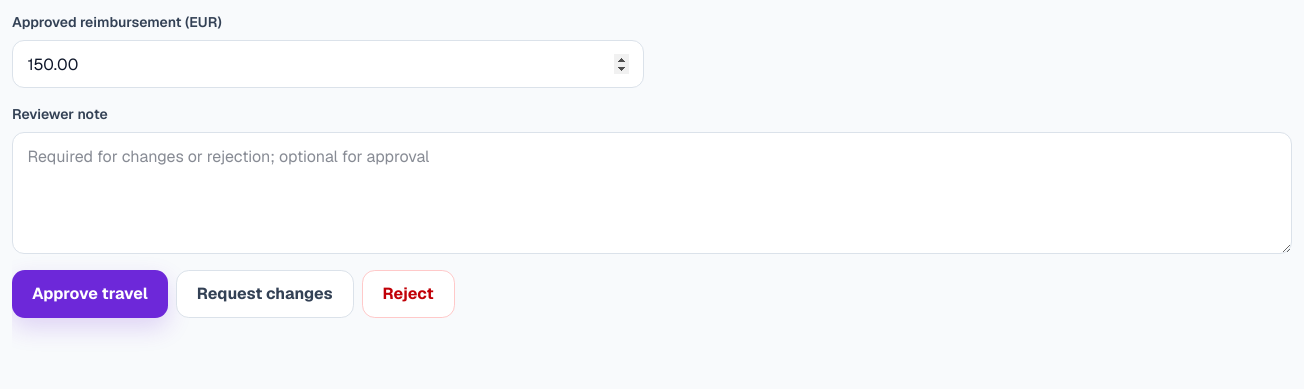
Test: TravelReviewForm › shows an error message when review fails
What coordinates should you click on to do the following:
click the button "Reject"
I would click on:
 (408, 294)
Its box is [362,270,454,318].
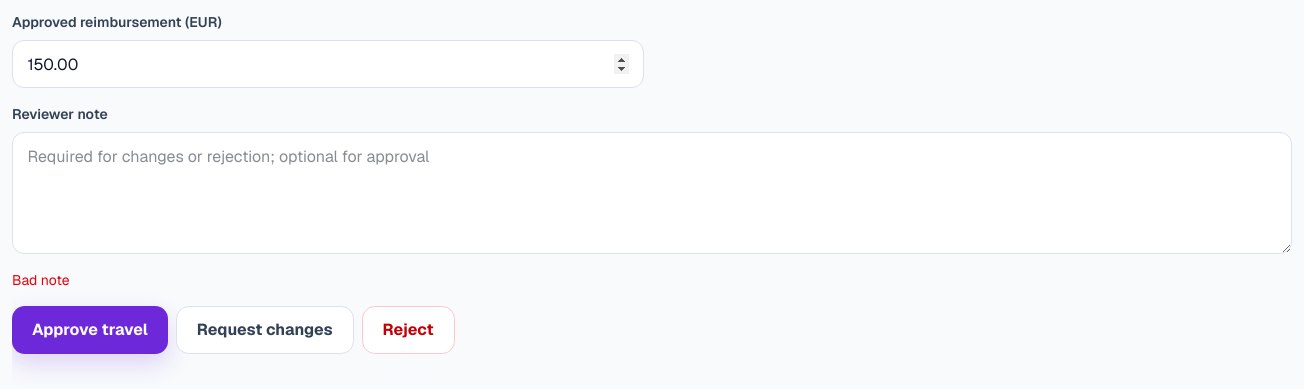
Check: the message reads "Bad note", box [12,271,70,289]
